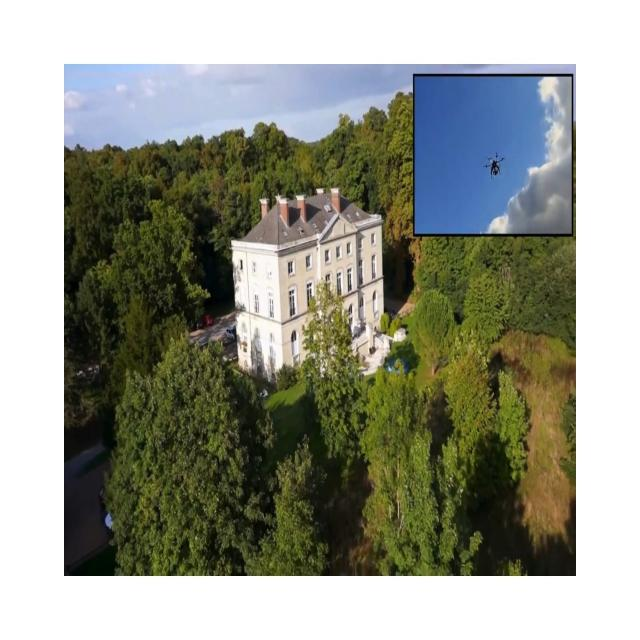drone: (484, 151, 504, 180)
